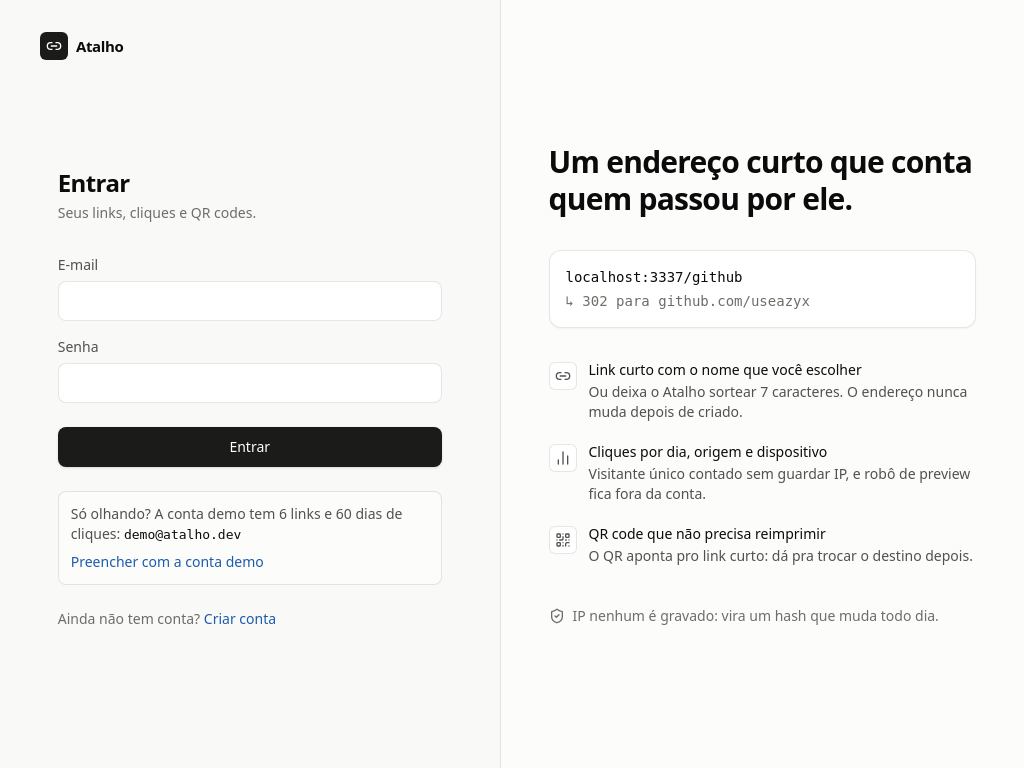
it: login › shows the API message when the password is wrong
This screenshot has width=1024, height=768.
In the field labelled "E-mail": coordinates (250, 301) [59,282,441,320], type "demo@atalho.dev"
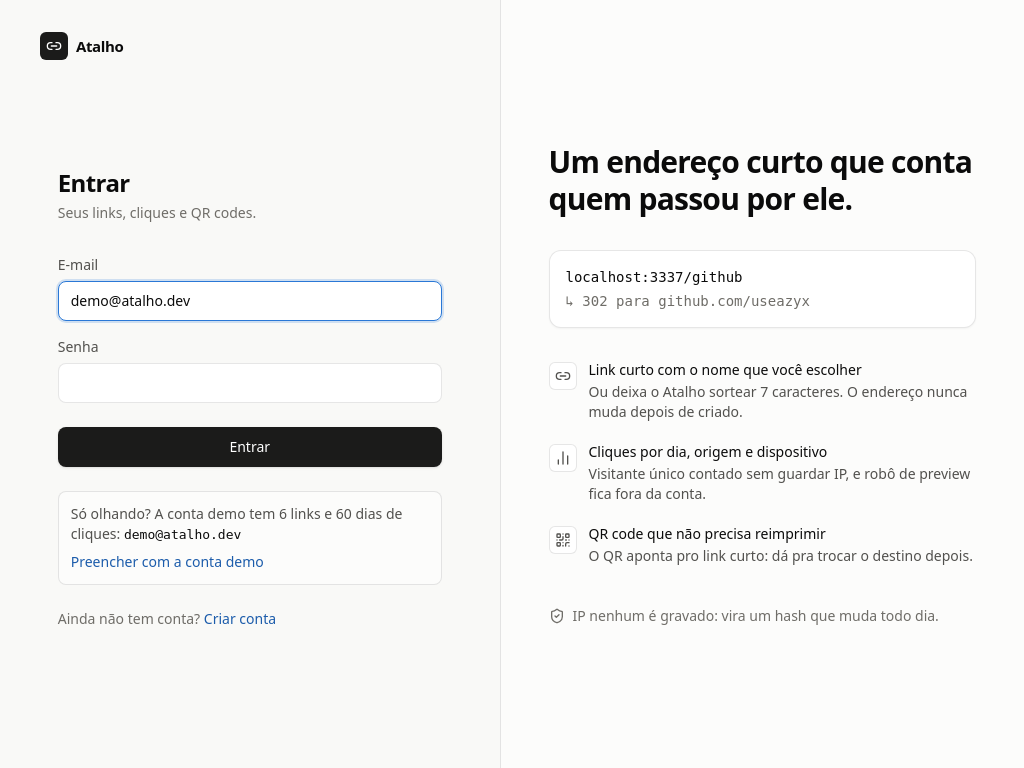
In the password field labelled "Senha": coordinates (250, 383) [59,364,441,402], type "errada"
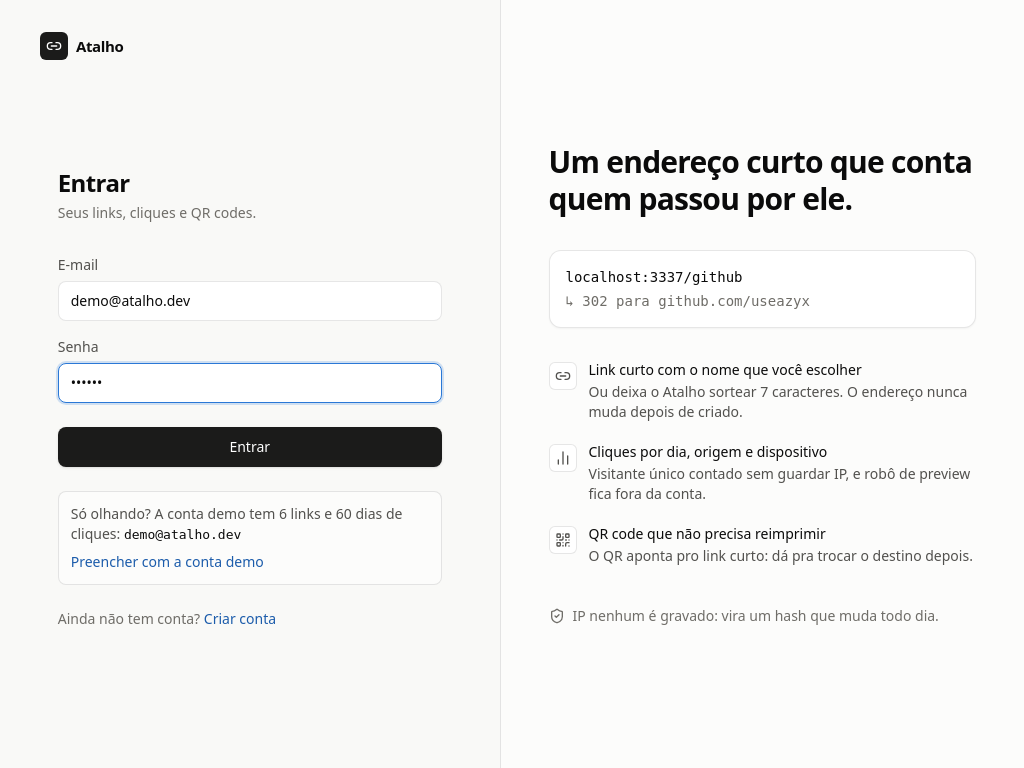
Click the button "Entrar": coordinates (250, 447) [58,427,442,467]
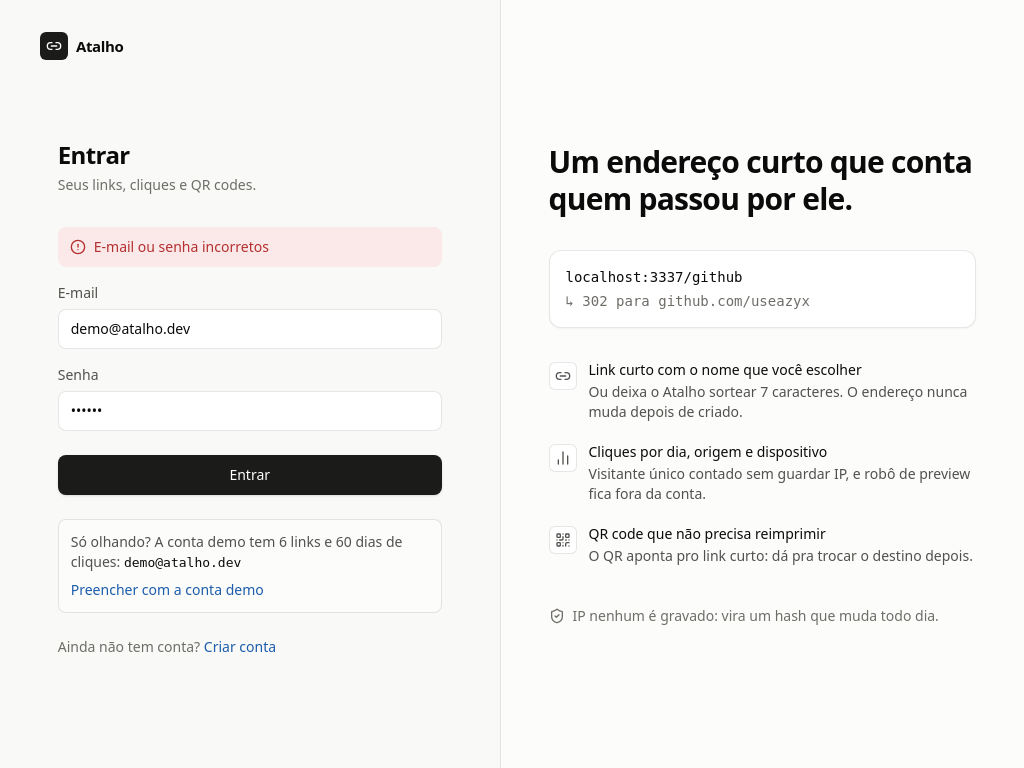
Expected: the message reads "E-mail ou senha incorretos", [94,237,269,256]
